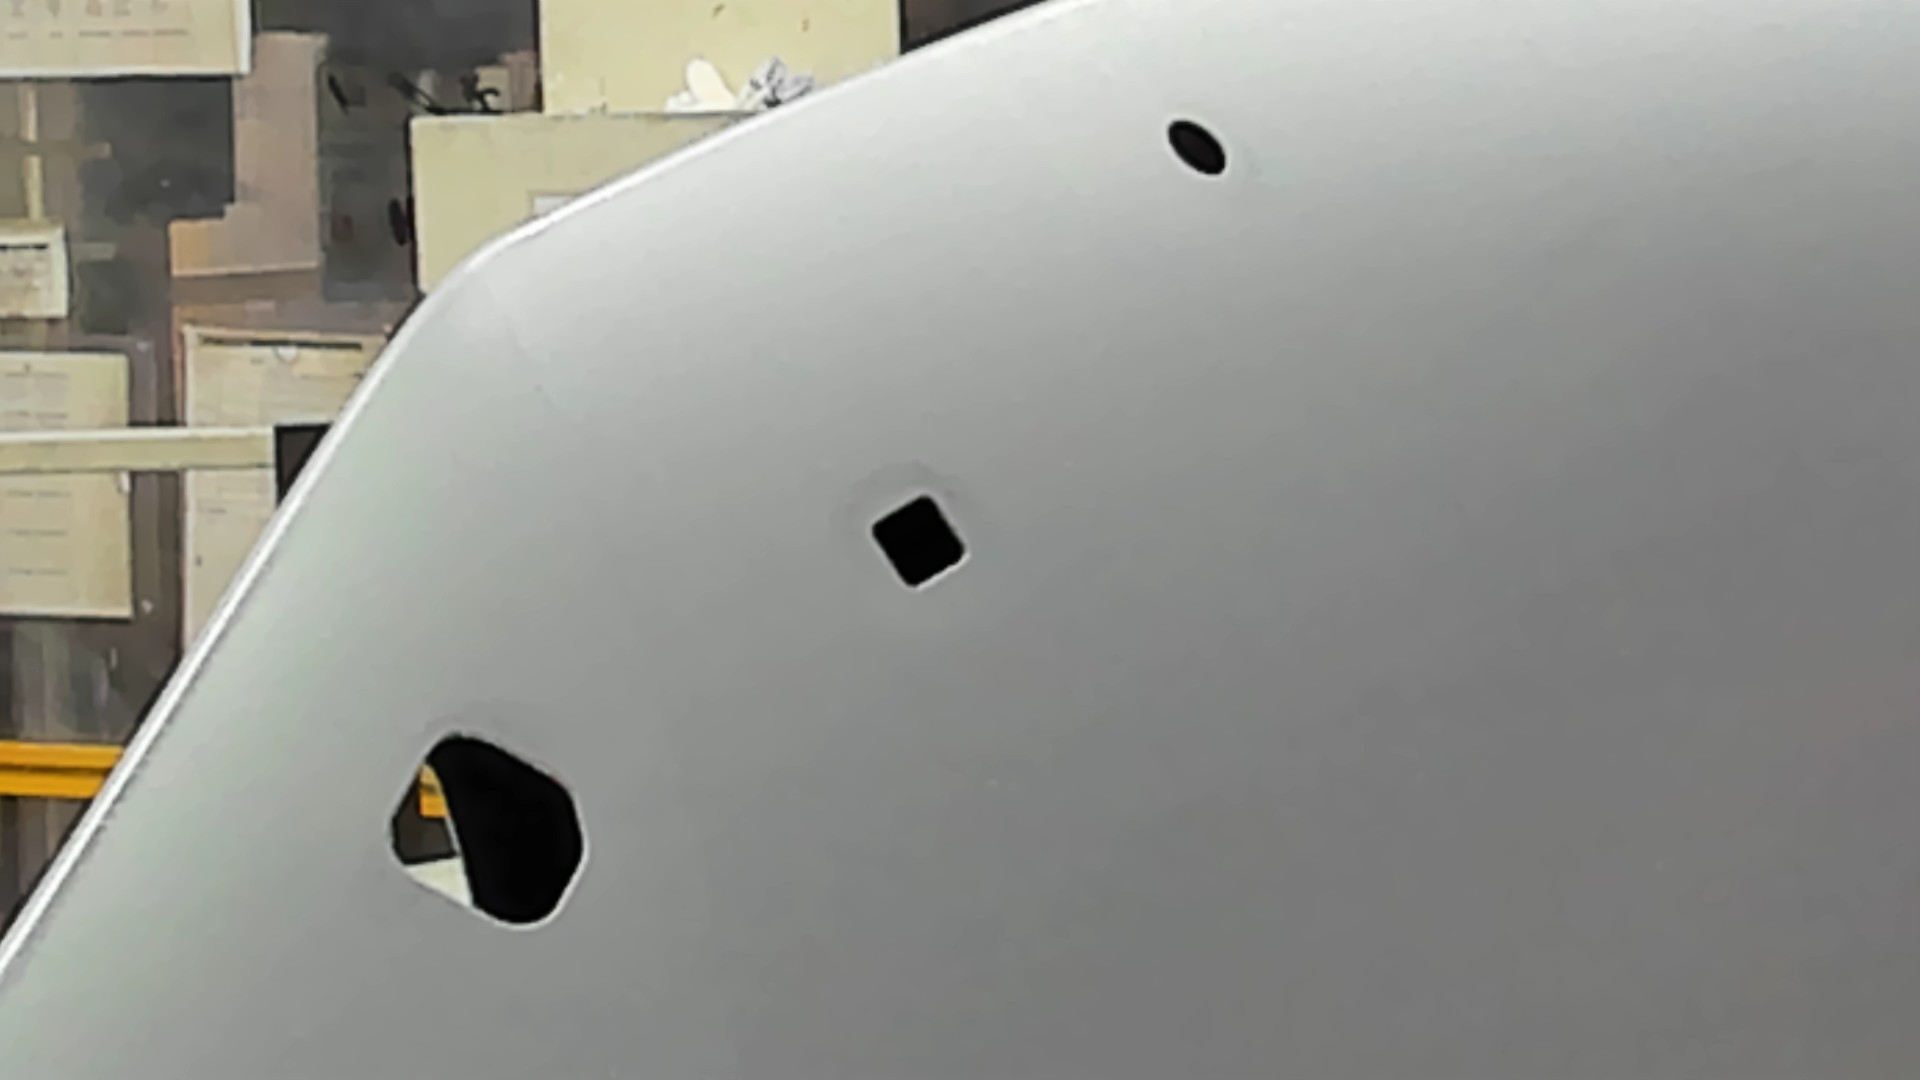chico: (1166, 116, 1229, 177)
grande: (385, 728, 589, 934)
mediano: (866, 492, 972, 592)
